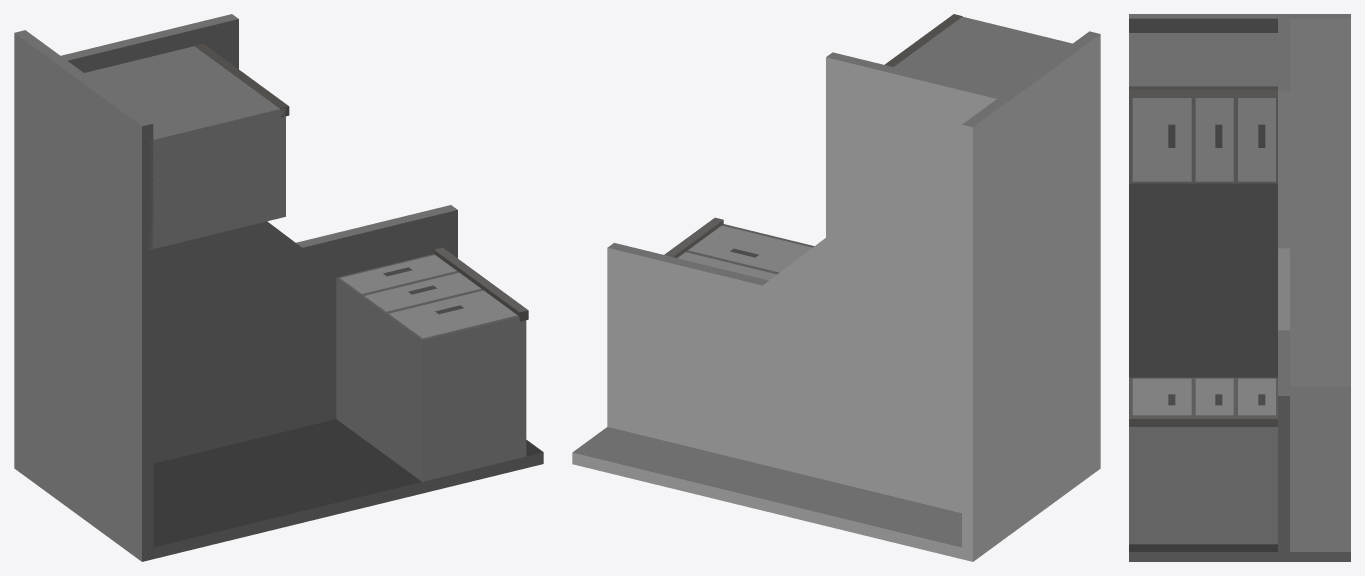
The model's file is Desk3.glb.
3 views of the same model, side by side, from view 1: azimuth 30°, elevation 25°; view 2: azimuth 150°, elevation 25°; view 3: azimuth 270°, elevation 25° (orthographic). The views are drawn at different scales.
Visible parts, largest first — view 1: SO_Desk_03; view 2: SO_Desk_03; view 3: SO_Desk_03.
Part boxes in pixels (x1,y1,x2,y2): SO_Desk_03: [14, 14, 543, 561]; SO_Desk_03: [572, 14, 1100, 561]; SO_Desk_03: [1129, 14, 1350, 561].
Bounding box in the file's own units: 3.94 × 4.08 × 2.17.
Materials: 1 (1 with a texture image).
